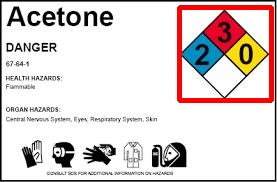nfpa: (179, 7, 271, 100)
